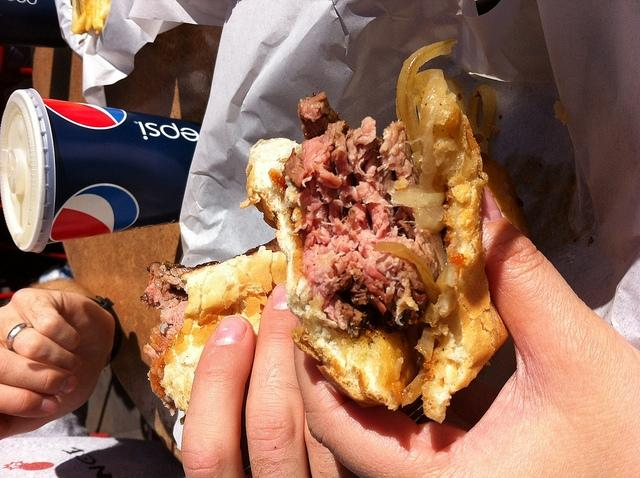onion: (396, 38, 460, 172), (374, 242, 442, 304), (468, 84, 496, 156), (392, 190, 446, 208)
